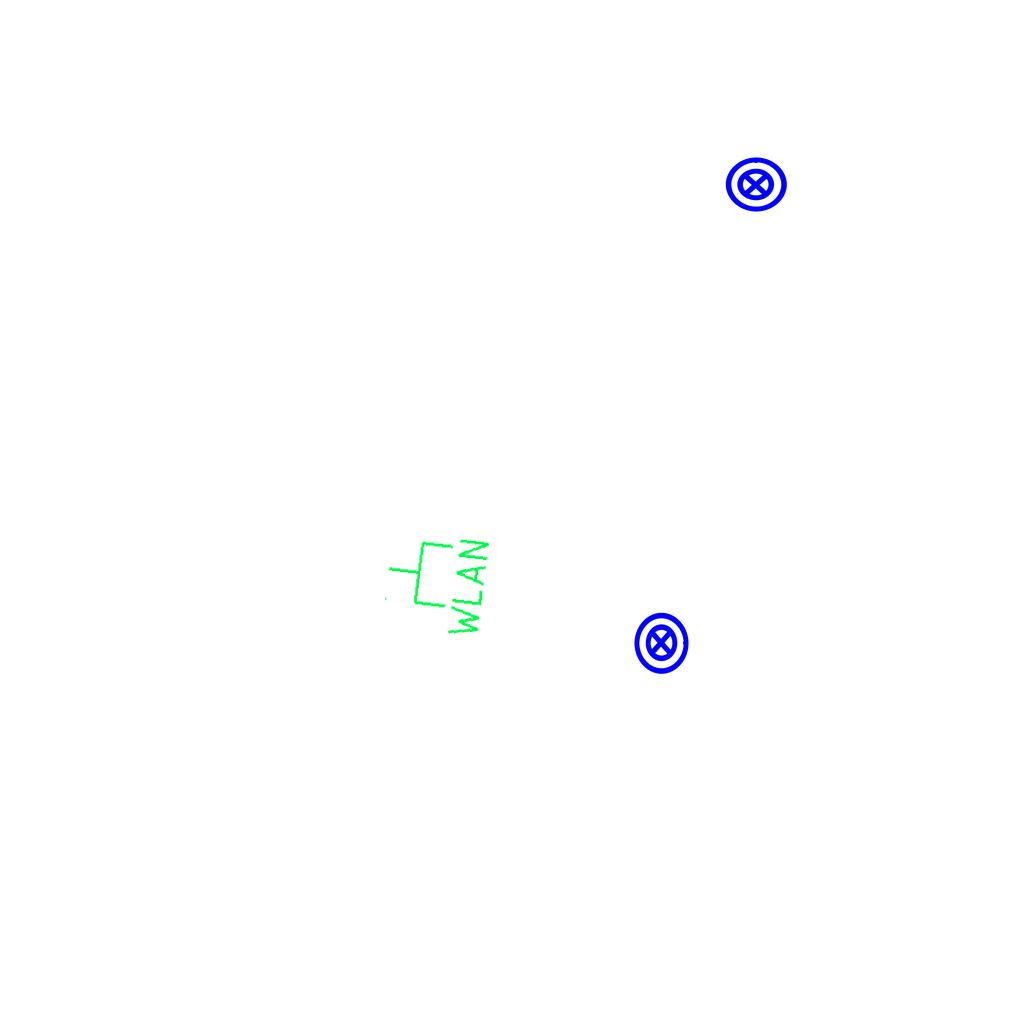Taster_beleuchtet: (723, 152, 789, 218), (628, 610, 694, 676)
WLAN: (377, 526, 495, 643)
